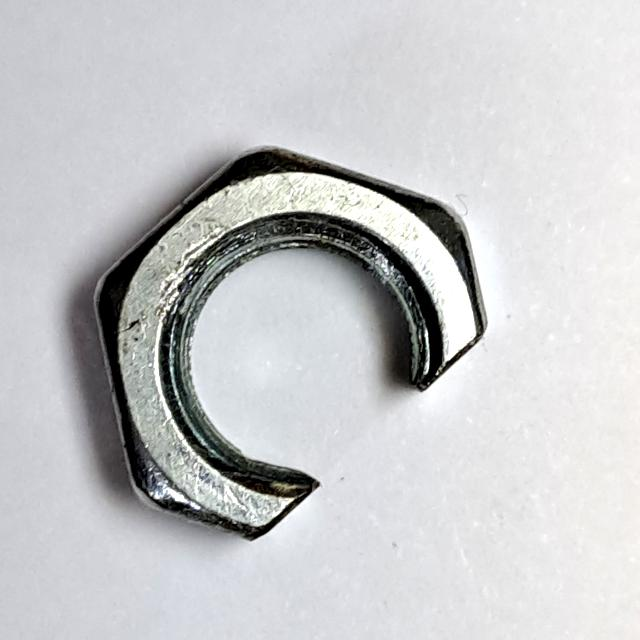Fracture: (83, 130, 503, 554)
